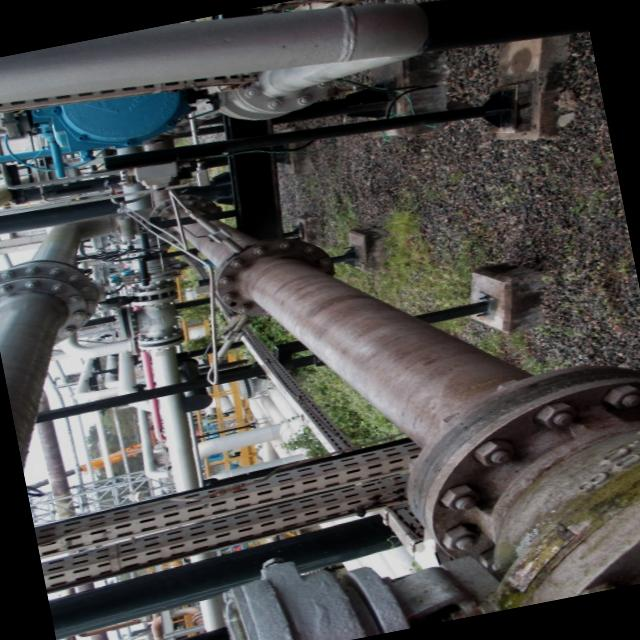gas: (156, 182, 640, 578), (0, 0, 589, 102), (0, 209, 124, 452), (132, 226, 200, 490), (223, 52, 419, 109), (33, 390, 74, 522)
